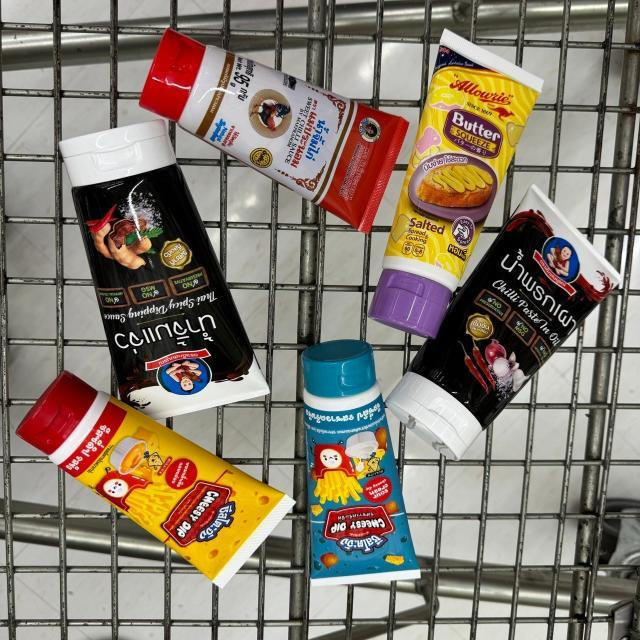Squeeze Tube: (389, 191, 637, 471), (59, 121, 275, 424), (10, 374, 299, 588), (135, 20, 413, 236), (368, 34, 553, 339), (299, 342, 424, 583)
